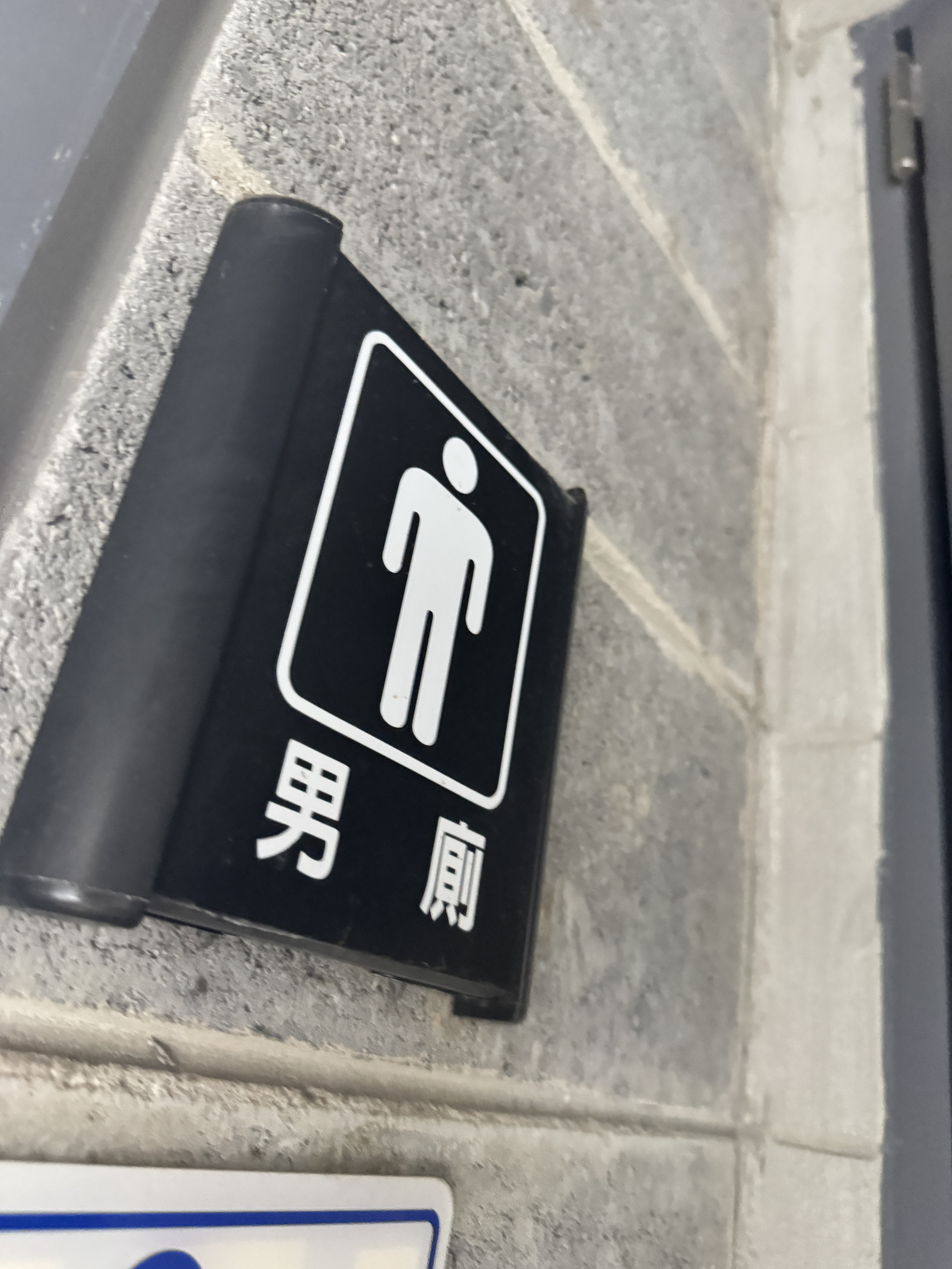toilet_sign: (15, 190, 599, 1034), (141, 184, 617, 1071)
